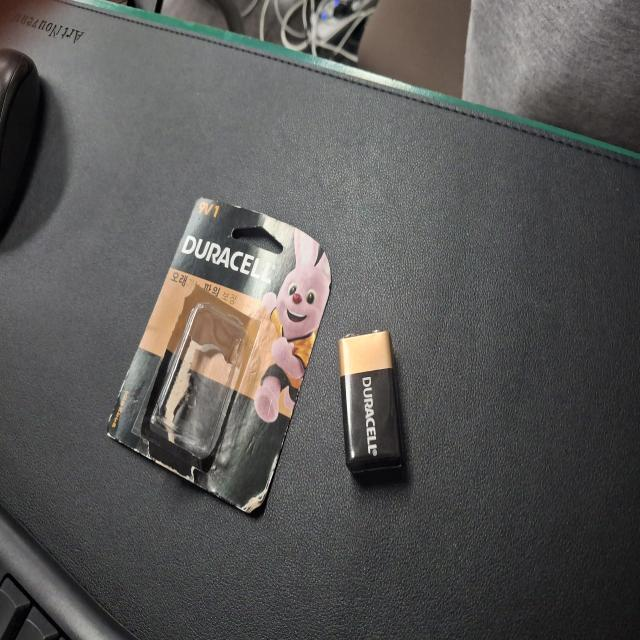9V: (249, 317, 354, 401)
